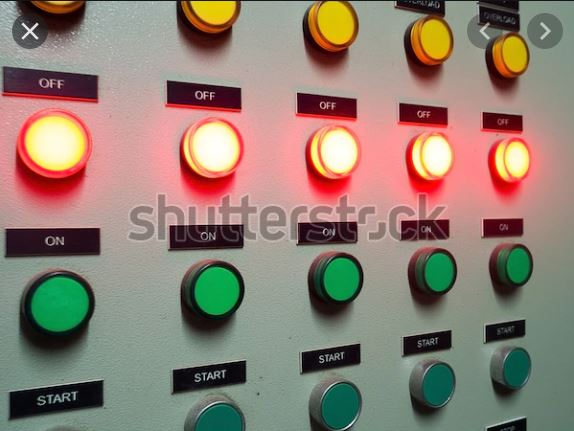Green_Led_Off: (23, 271, 96, 340), (181, 257, 249, 326), (311, 248, 368, 309), (409, 246, 462, 299), (493, 241, 538, 290)
Red_Led_On: (14, 109, 91, 179), (183, 117, 247, 181), (306, 120, 366, 185), (408, 127, 458, 189), (493, 134, 533, 185)
Yellow_Led_Off: (306, 1, 360, 55), (410, 14, 456, 67), (489, 29, 532, 85)
